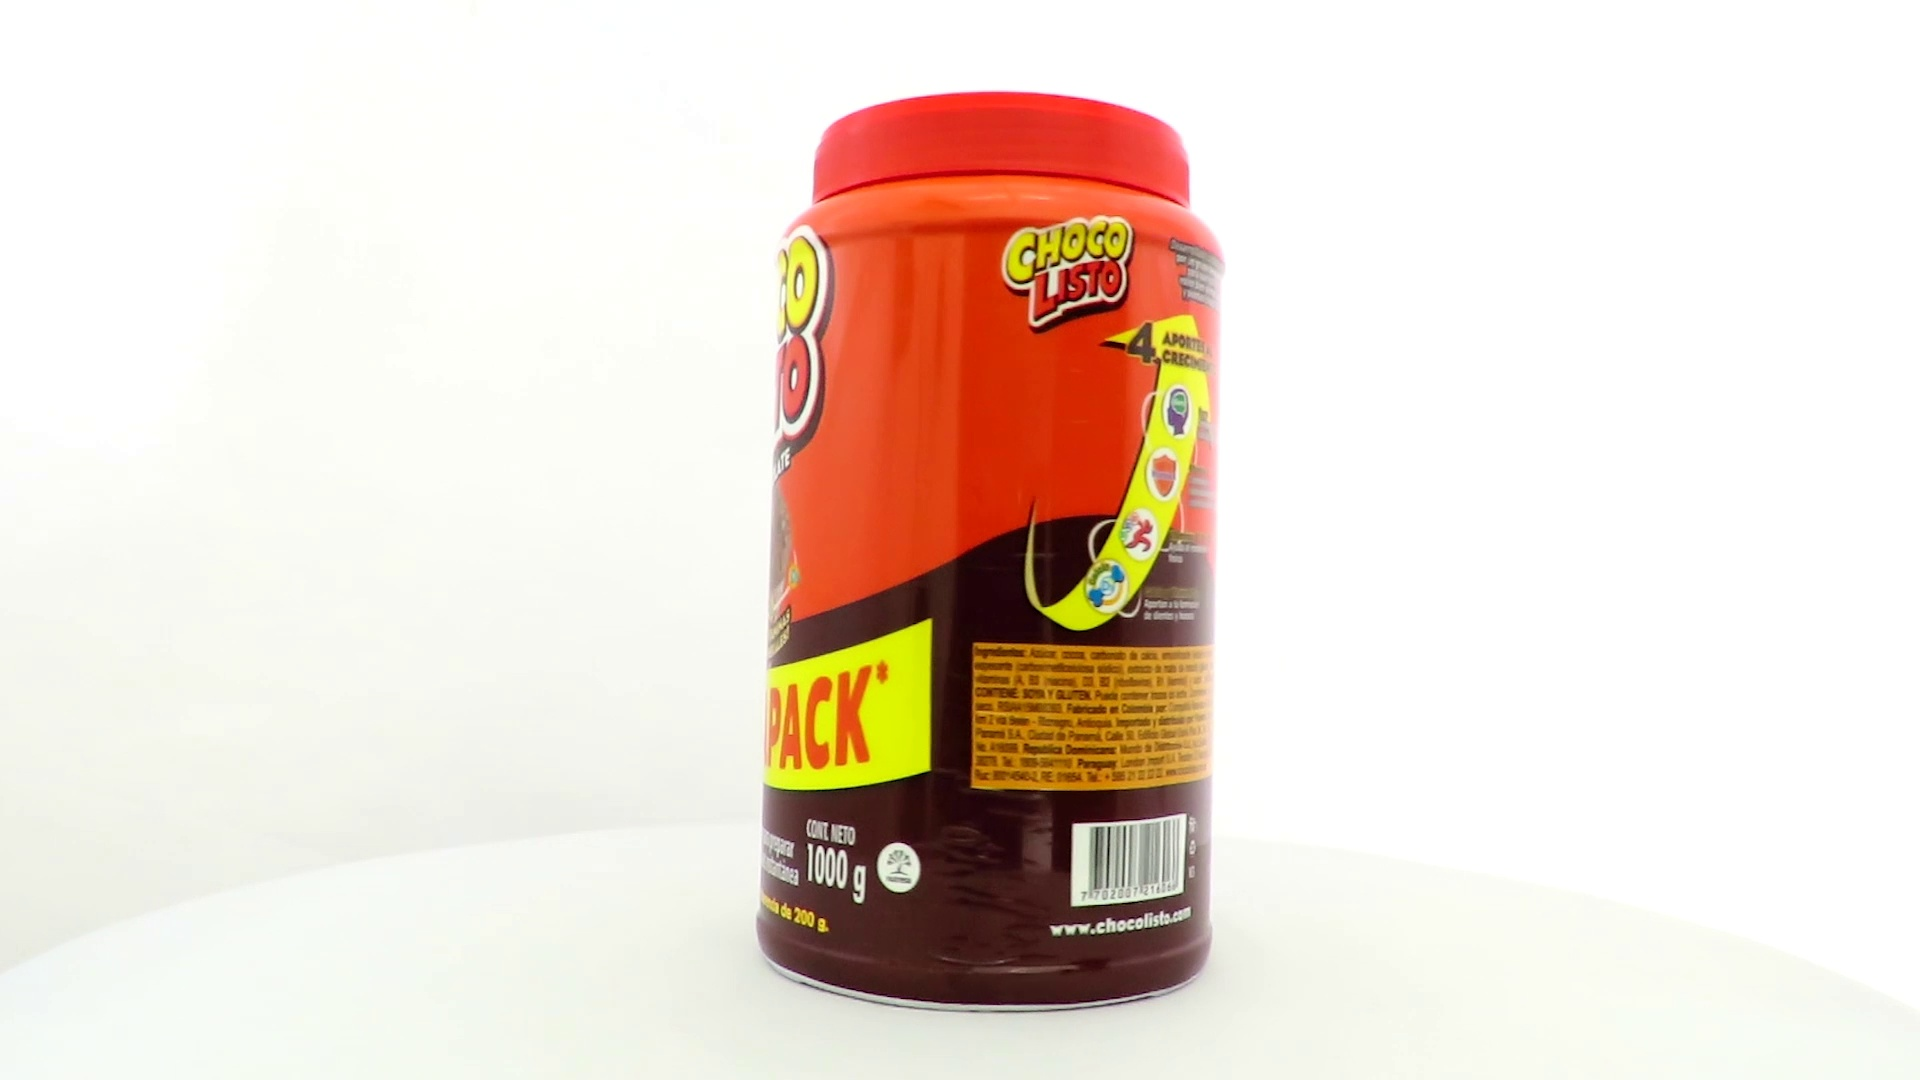COL0170103TRR00100: (752, 86, 1232, 1021)
